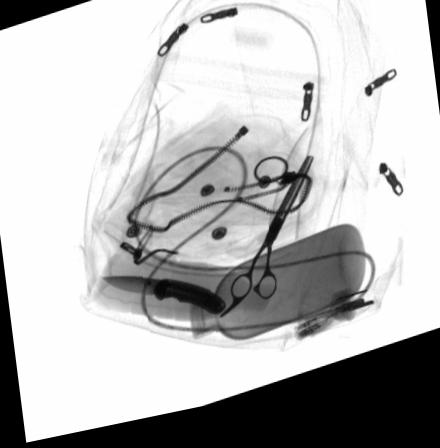Knife: (100, 279, 226, 323)
Scissors: (216, 169, 315, 327)
